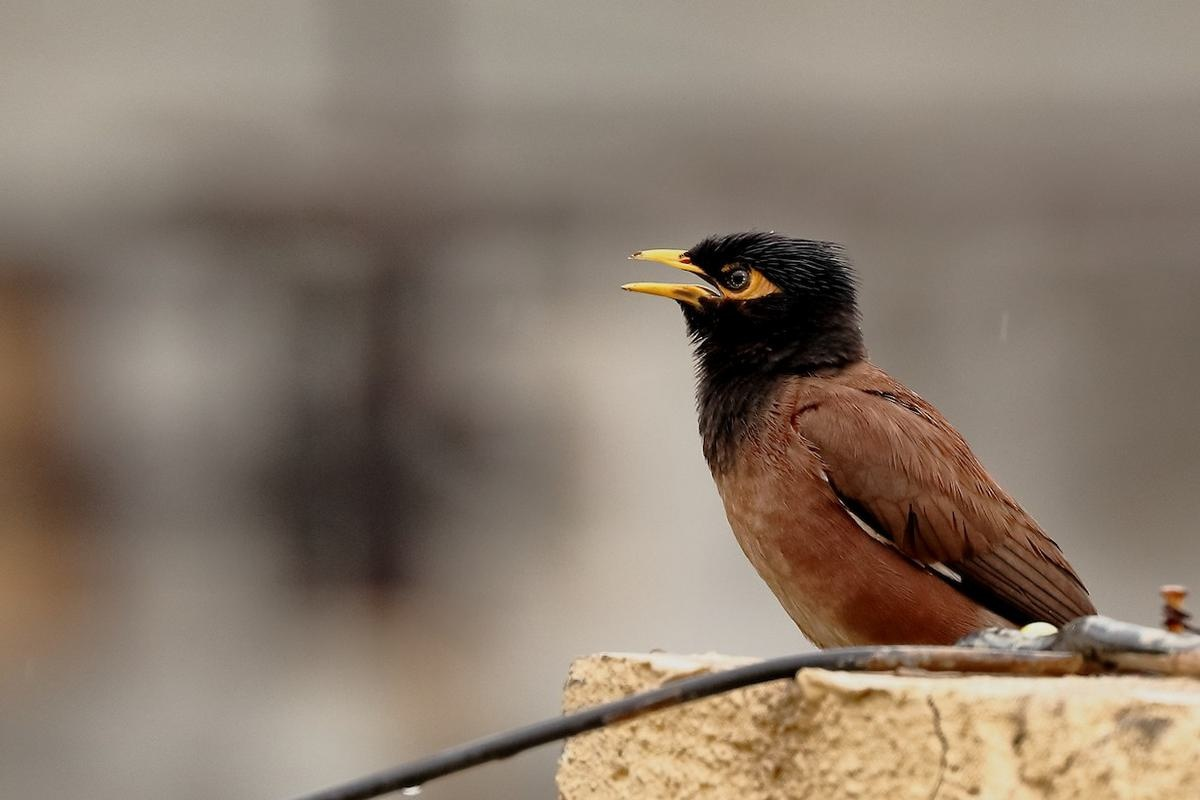myna: (601, 175, 1048, 656)
